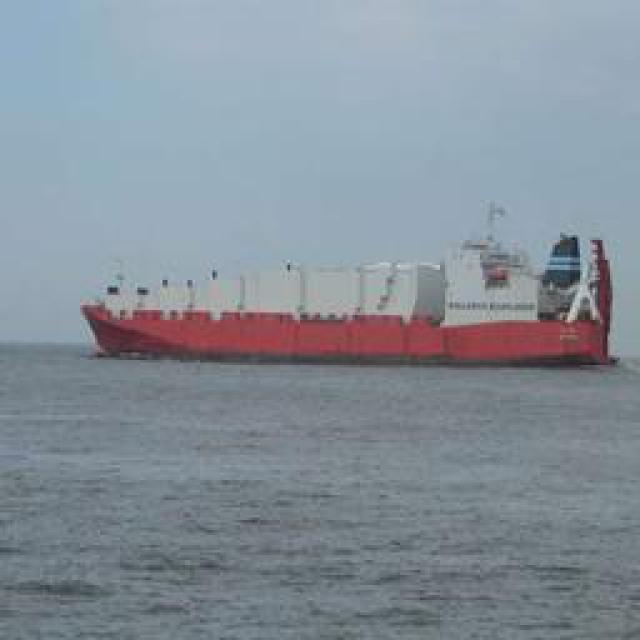Ship: (84, 211, 624, 371)
